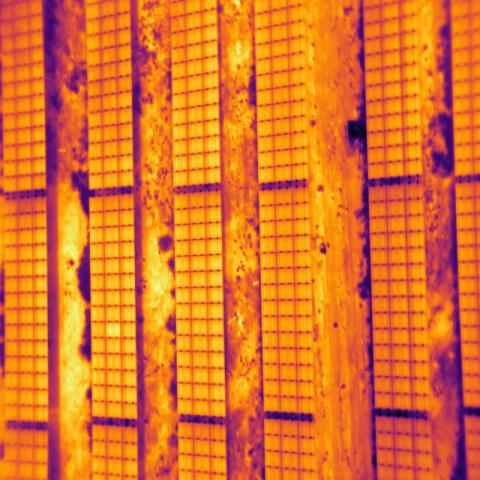fault: (106, 321, 121, 338)
